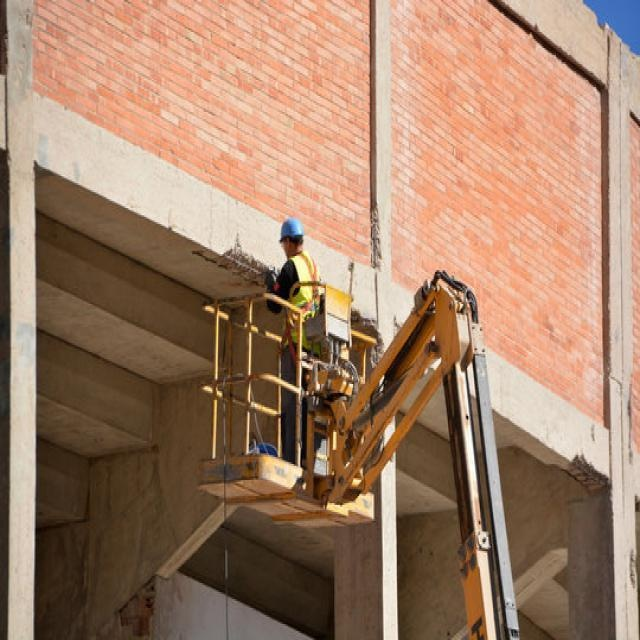Arnes_seguridad: (279, 251, 320, 334)
